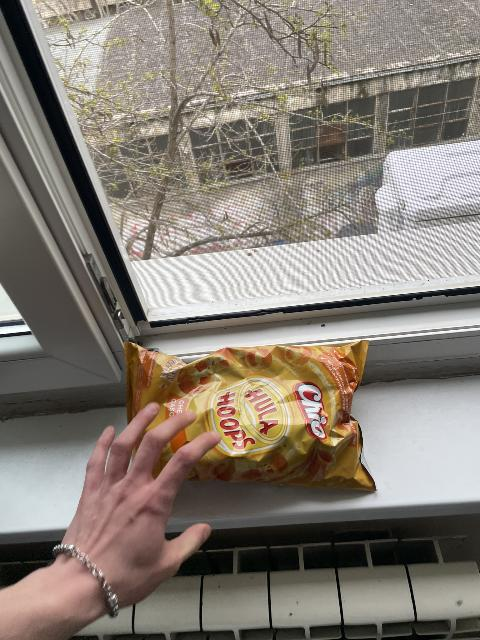Chio Hula Hoops Cheese 70g: (125, 336, 378, 493)
